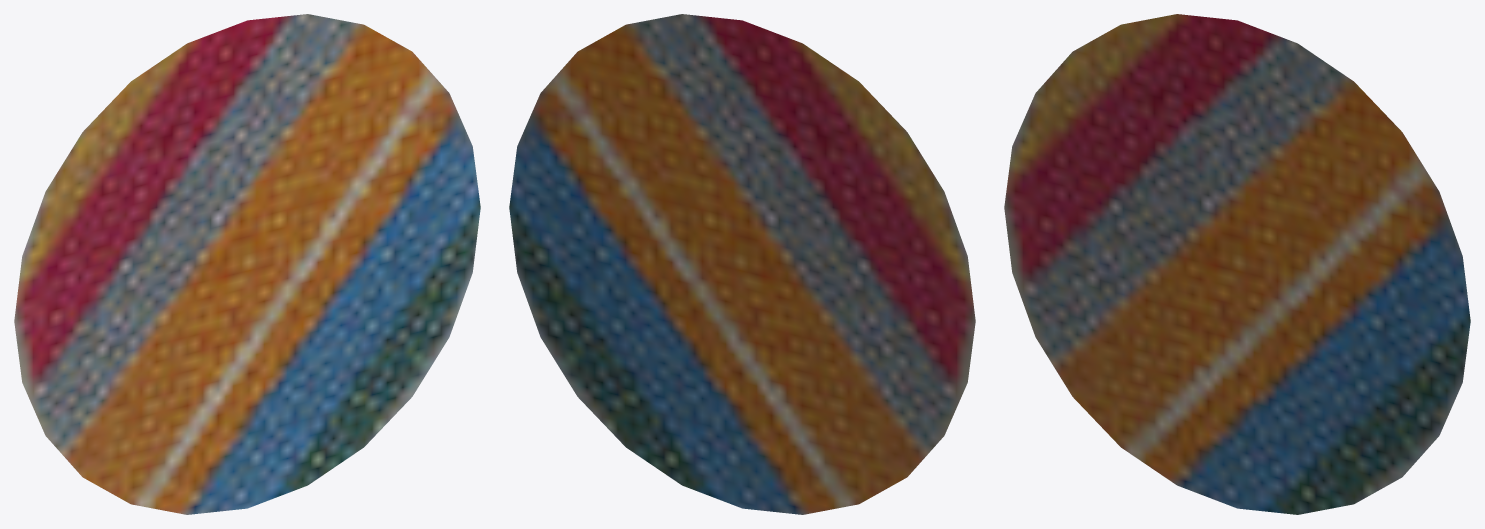
Rendered from sc3_dot2.fbx.
The picture shows the model from 3 angles, left to right: view 1: azimuth 30°, elevation 25°; view 2: azimuth 150°, elevation 25°; view 3: azimuth 330°, elevation 25°; orthographic projection.
Parts seen in each view (by area): view 1: pDisc3; view 2: pDisc3; view 3: pDisc3.
Part boxes in pixels (bbox=[...]): pDisc3: bbox=[14, 14, 480, 514]; pDisc3: bbox=[509, 14, 975, 514]; pDisc3: bbox=[1004, 14, 1470, 514].
Bounding box in the file's own units: 0.6612 × 0.6612 × 4.05e-17.
1 material, 1 textured.
